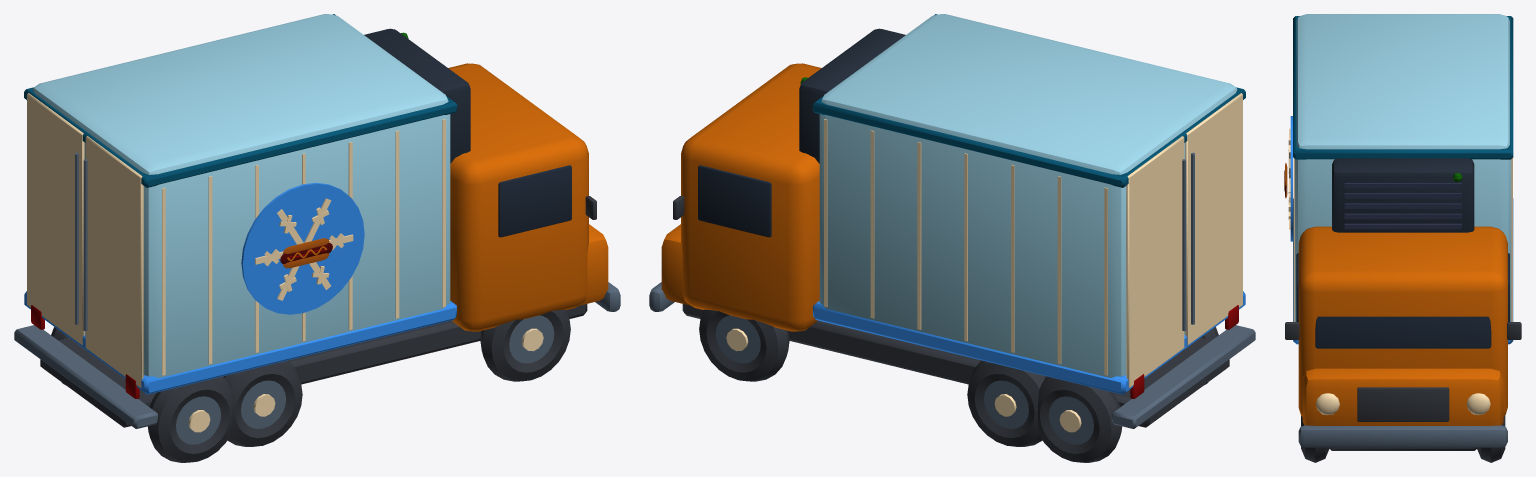
File: FridgeTruck.obj
The picture shows the model from 3 angles, left to right: view 1: azimuth 30°, elevation 25°; view 2: azimuth 150°, elevation 25°; view 3: azimuth 270°, elevation 25°; orthographic projection. The views are drawn at different scales.
Visible parts, largest first — view 1: FridgeTruck; view 2: FridgeTruck; view 3: FridgeTruck.
Boxes of the visible parts, x1,y1,x2,y2 form: FridgeTruck: [14, 14, 620, 462]; FridgeTruck: [649, 14, 1255, 462]; FridgeTruck: [1284, 14, 1521, 462].
Bounding box in the file's own units: 12.07 × 7.38 × 5.66.
